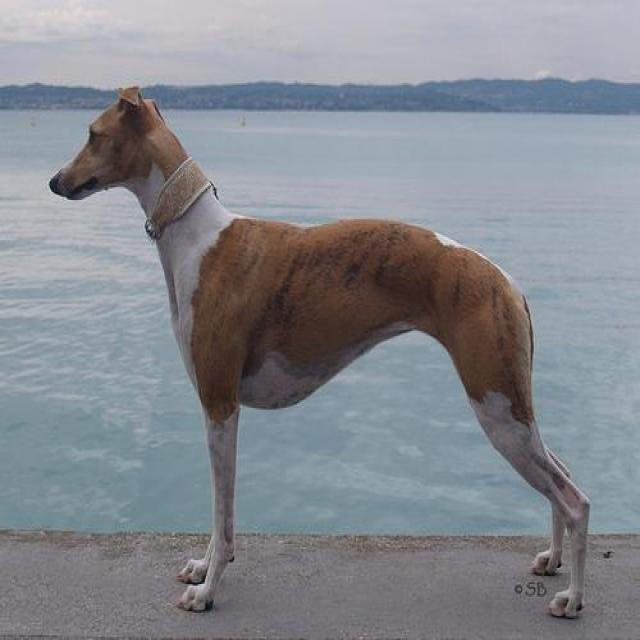good: (44, 81, 598, 635)
